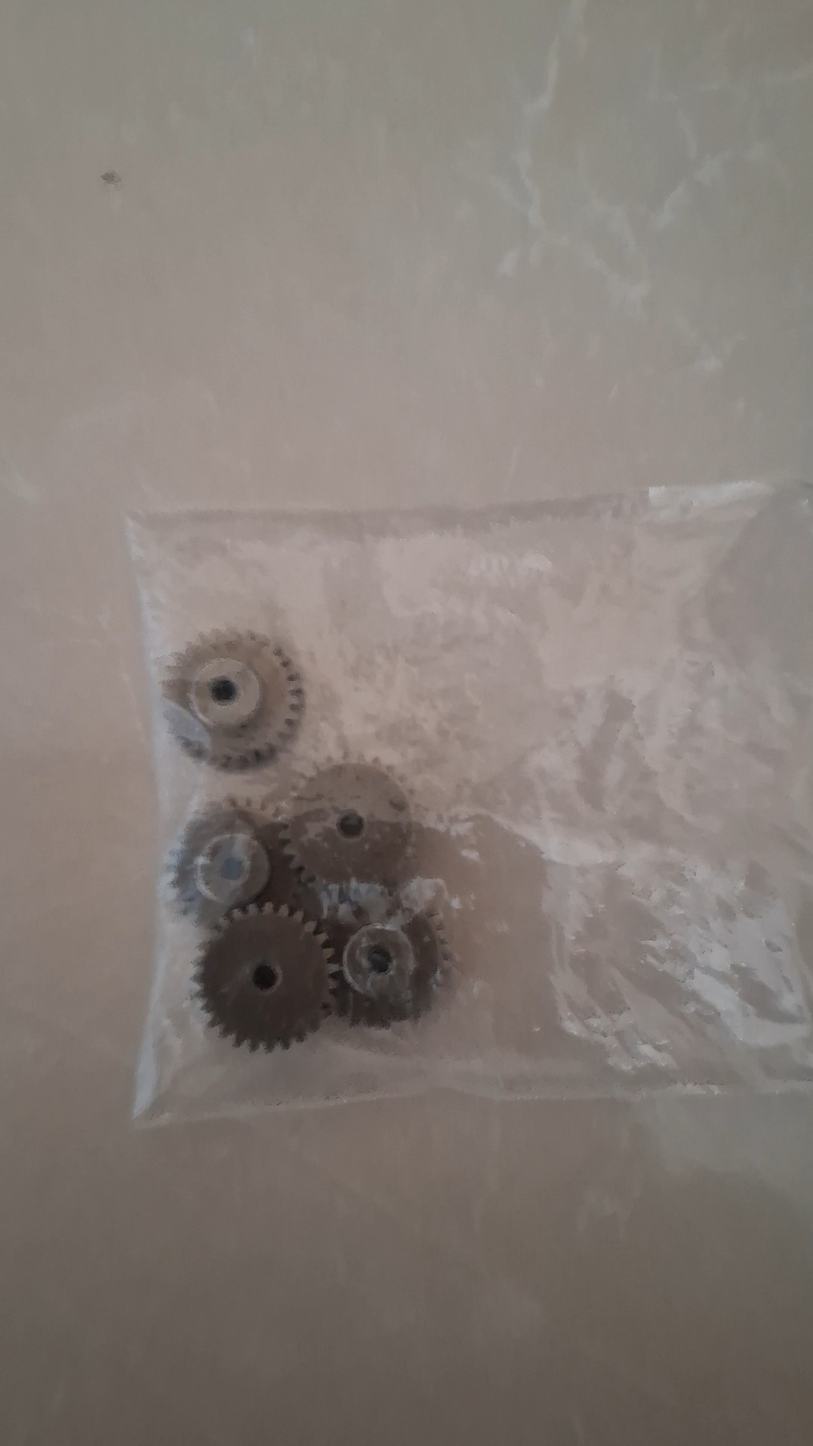spur gear: (194, 905, 331, 1050), (162, 632, 303, 769), (286, 763, 412, 886), (334, 914, 450, 1027), (169, 801, 271, 926)
